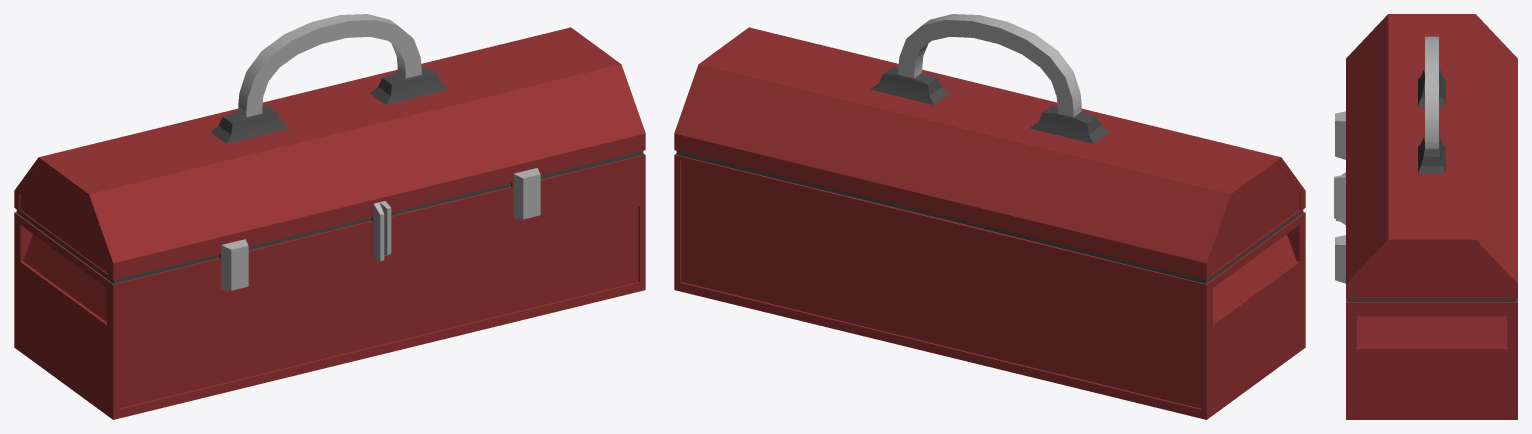
Rendered from Tool Box Red.fbx.
3 renders of one model, left to right at view 1: azimuth 30°, elevation 25°; view 2: azimuth 150°, elevation 25°; view 3: azimuth 270°, elevation 25°, orthographic. The views are drawn at different scales.
Visible parts, largest first — view 1: pCube4; view 2: pCube4; view 3: pCube4.
Part boxes in pixels (x1=…): pCube4: x1=14, y1=14, x2=645, y2=419; pCube4: x1=674, y1=14, x2=1305, y2=419; pCube4: x1=1334, y1=14, x2=1517, y2=419.
Bounding box in the file's own units: 1.05 × 0.5622 × 0.3631.
